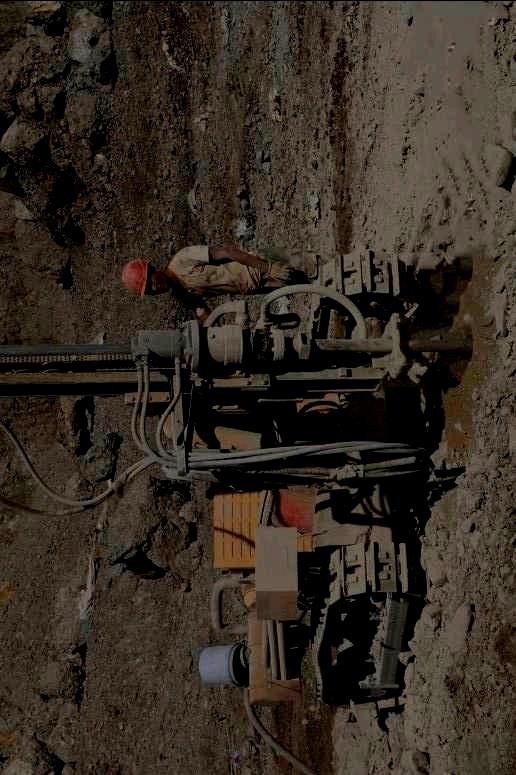helmet: (121, 256, 171, 298)
